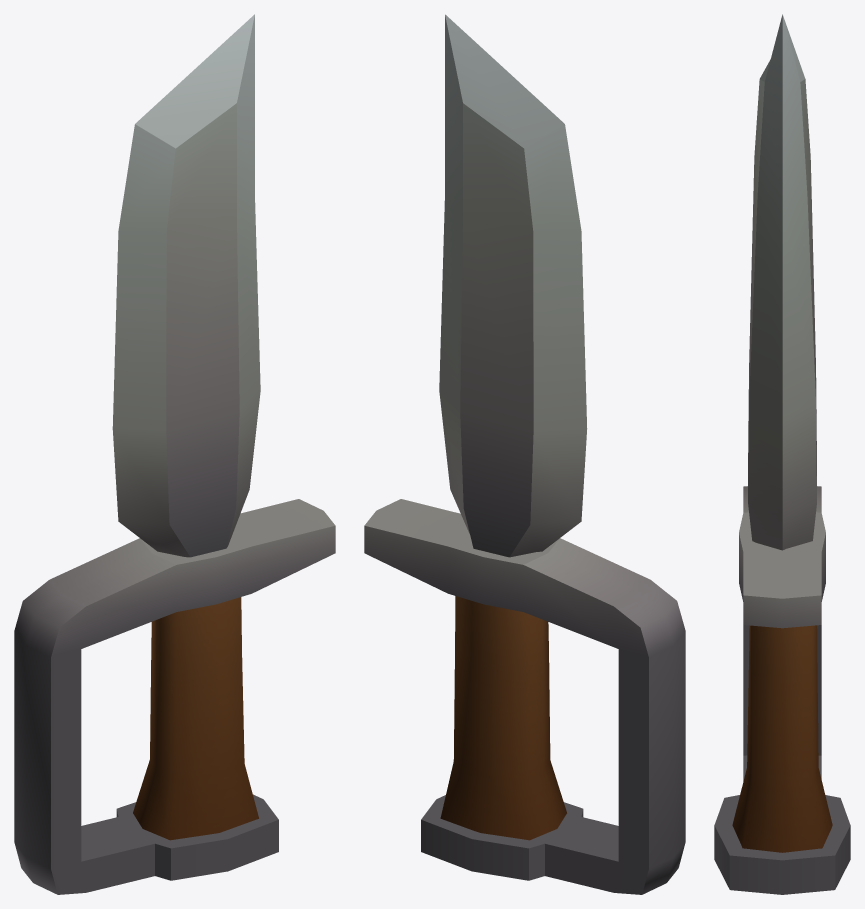
The model's file is Dagger_04.obj.
3 views of the same model, side by side, from view 1: azimuth 30°, elevation 25°; view 2: azimuth 150°, elevation 25°; view 3: azimuth 270°, elevation 25° (orthographic). The views are drawn at different scales.
Visible parts, largest first — view 1: Dagger_04; view 2: Dagger_04; view 3: Dagger_04.
Boxes of the visible parts, x1,y1,x2,y2 form: Dagger_04: (14,14,335,894); Dagger_04: (364,14,685,894); Dagger_04: (714,14,850,894).
Size of the model in its own units: 0.3197 by 0.8421 by 0.1186.
